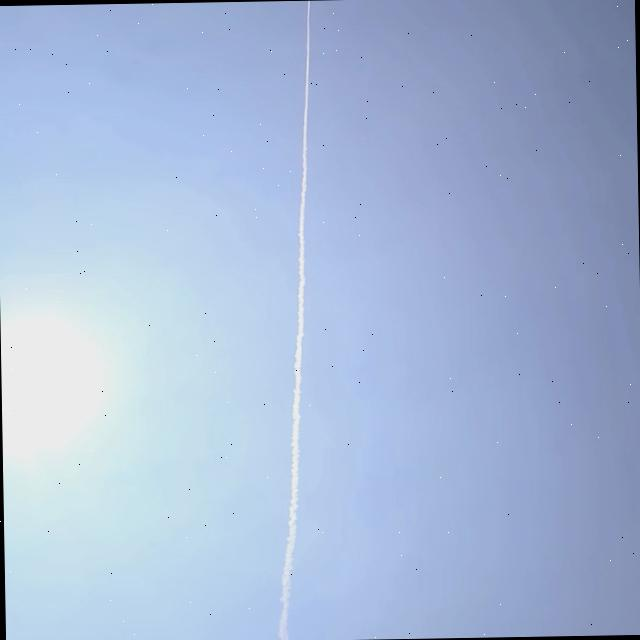smoke_trail_no_rocket: (280, 91, 308, 640)
